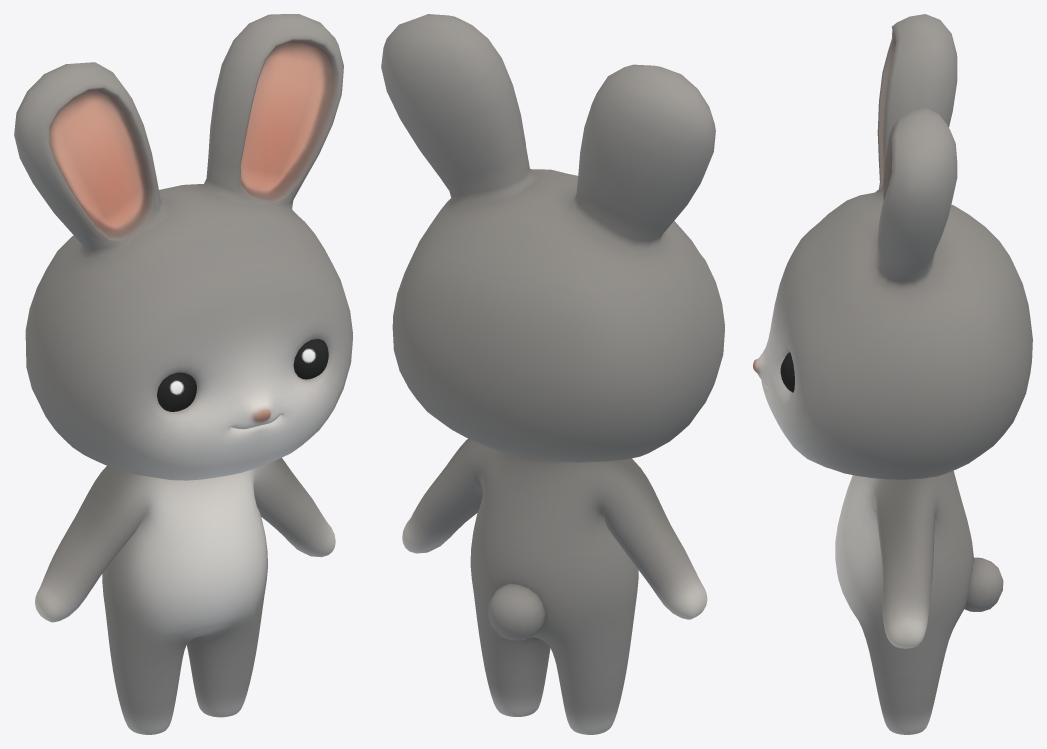
Rendered from rigged_rabbit_vtuber_with_facial_blendshape.glb.
3 views of the same model, side by side, from view 1: azimuth 30°, elevation 25°; view 2: azimuth 150°, elevation 25°; view 3: azimuth 270°, elevation 25° (orthographic). The views are drawn at different scales.
Visible parts, largest first — view 1: rabbit2; view 2: rabbit2; view 3: rabbit2.
Part boxes in pixels (x1,y1,x2,y2): rabbit2: (14,14,352,734); rabbit2: (381,14,724,734); rabbit2: (753,14,1032,734).
Bounding box in the file's own units: 5.59 × 11.12 × 4.38.
Materials: 1 (1 with a texture image).
